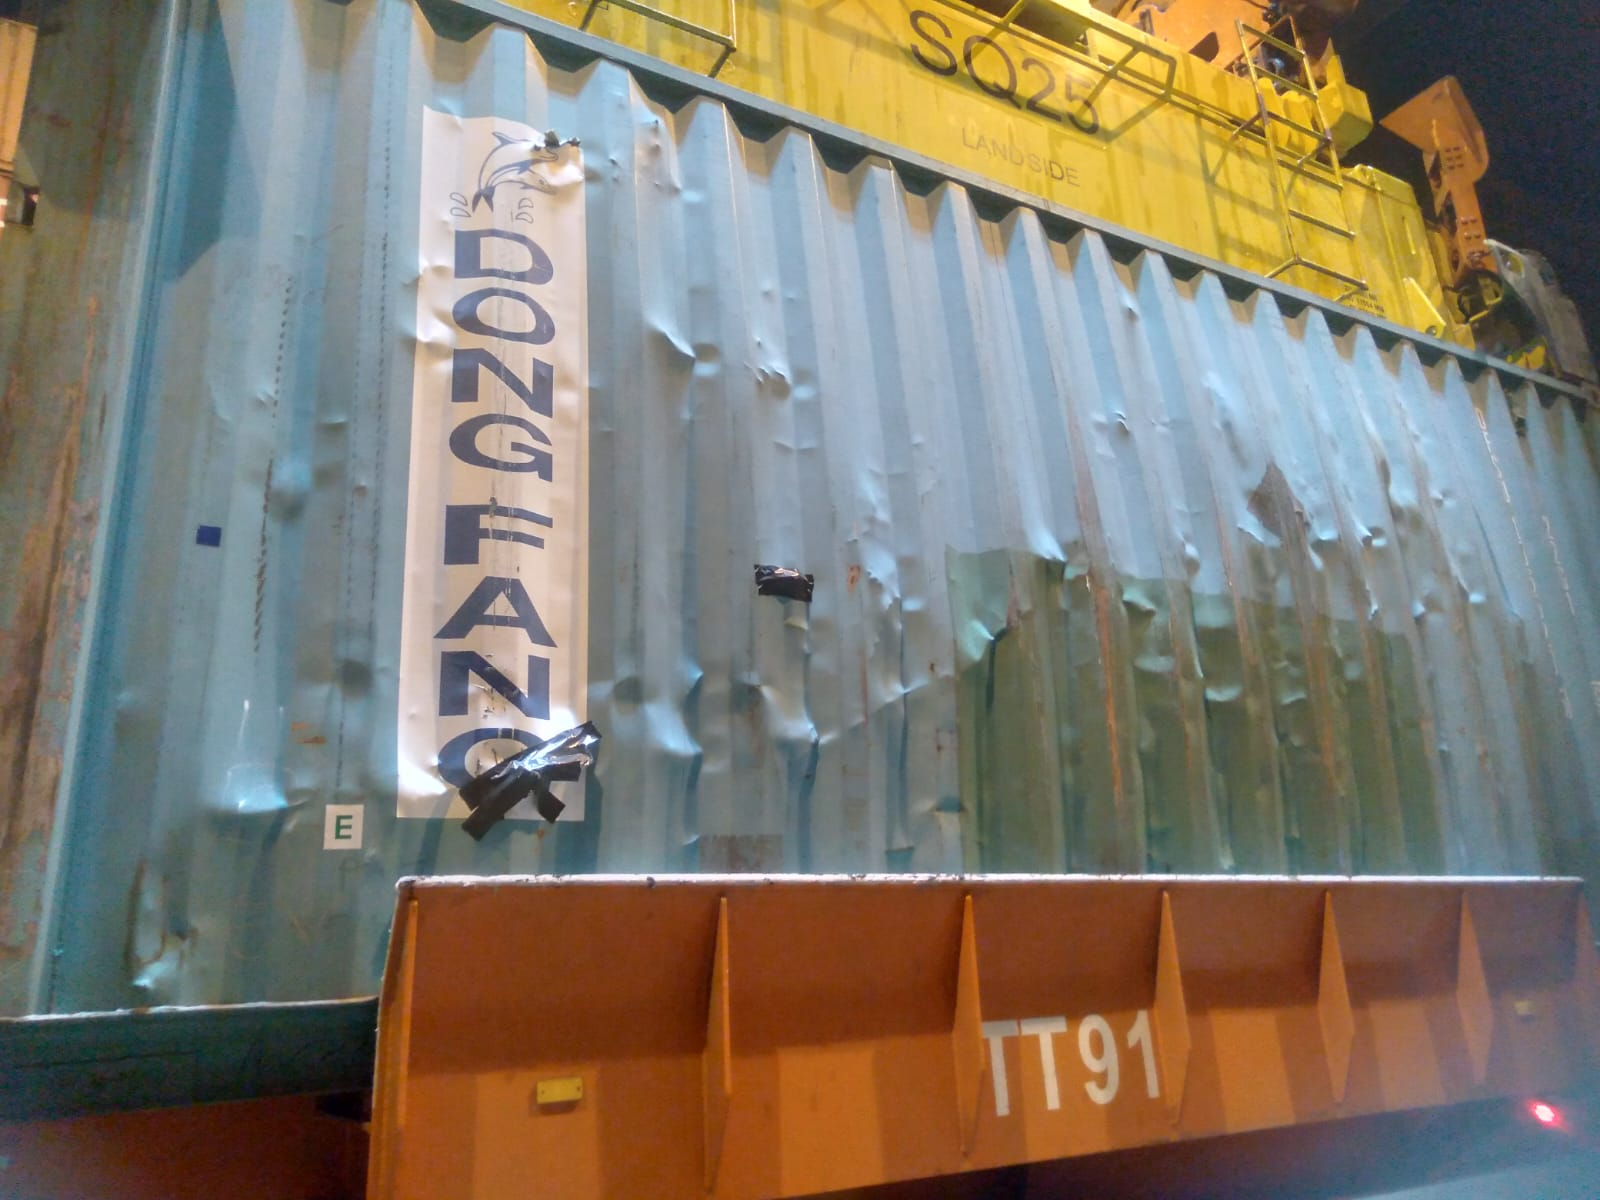bulged: (243, 418, 346, 534)
dented: (901, 538, 1508, 769), (564, 650, 882, 817), (620, 301, 877, 453), (1157, 411, 1464, 522), (212, 745, 370, 877)
